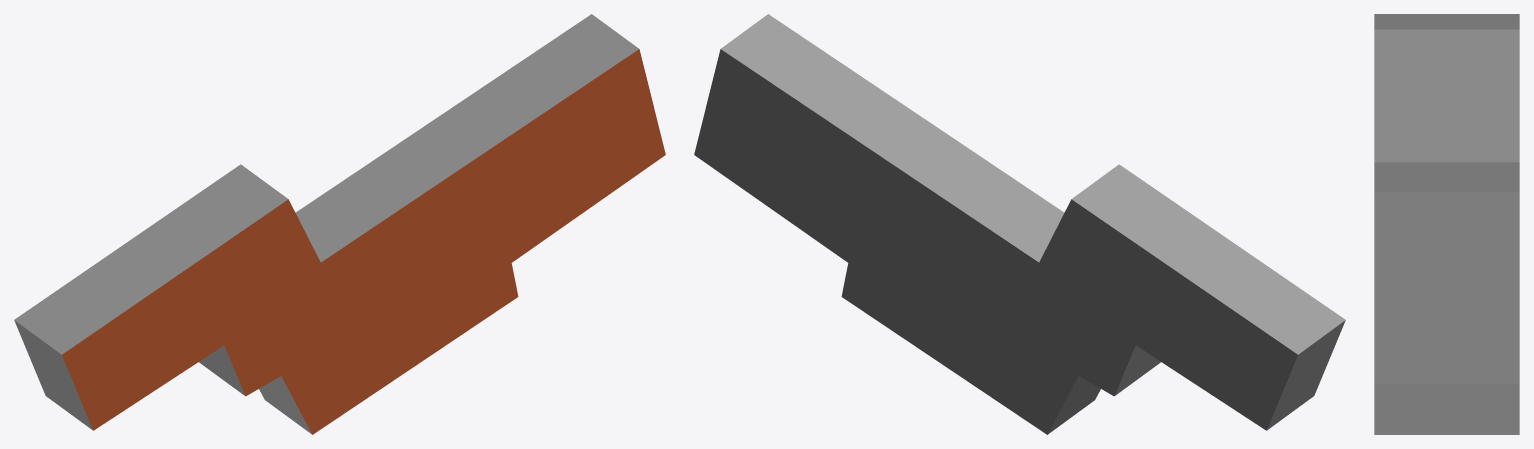
Rendered from construction_2283_assumed_A_Casa_h6m.obj.
3 renders of one model, left to right at view 1: azimuth 30°, elevation 25°; view 2: azimuth 150°, elevation 25°; view 3: azimuth 270°, elevation 25°, orthographic. The views are drawn at different scales.
Parts seen in each view (by area): view 1: construction_2283_assumed_A_Casa; view 2: construction_2283_assumed_A_Casa; view 3: construction_2283_assumed_A_Casa.
Boxes of the visible parts, x1,y1,x2,y2 form: construction_2283_assumed_A_Casa: [14, 14, 665, 434]; construction_2283_assumed_A_Casa: [694, 14, 1345, 434]; construction_2283_assumed_A_Casa: [1374, 14, 1519, 434].
Size of the model in its own units: 43.82 by 21.23 by 6.
